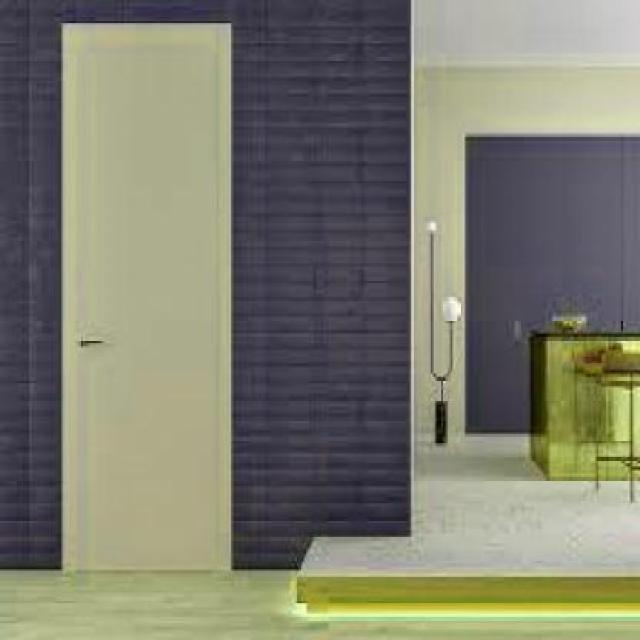door_handle: (70, 335, 116, 352)
